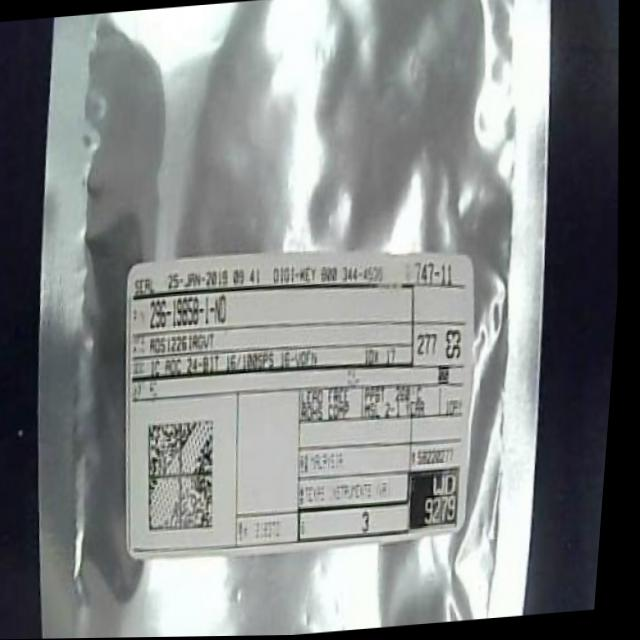datamatrix: (148, 414, 230, 538)
